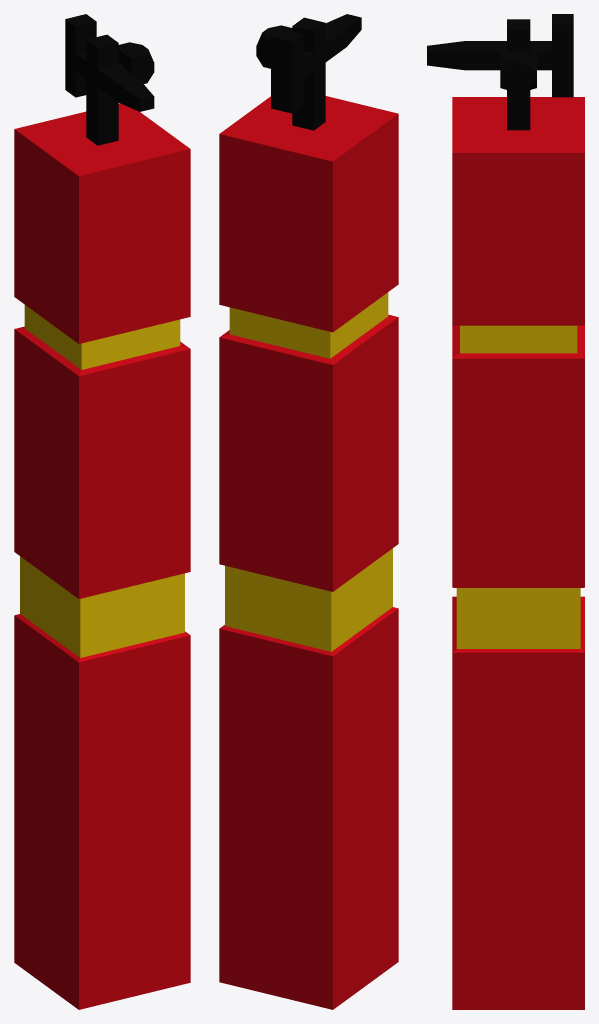
Rendered from baloon.fbx.
The picture shows the model from 3 angles, left to right: view 1: azimuth 30°, elevation 25°; view 2: azimuth 150°, elevation 25°; view 3: azimuth 270°, elevation 25°; orthographic projection. The views are drawn at different scales.
Parts seen in each view (by area): view 1: paintTank.007; view 2: paintTank.007; view 3: paintTank.007.
Boxes of the visible parts, x1,y1,x2,y2 form: paintTank.007: [14, 14, 190, 1009]; paintTank.007: [219, 14, 398, 1009]; paintTank.007: [427, 14, 584, 1009].
Bounding box in the file's own units: 0.0479 × 0.384 × 0.0571.
